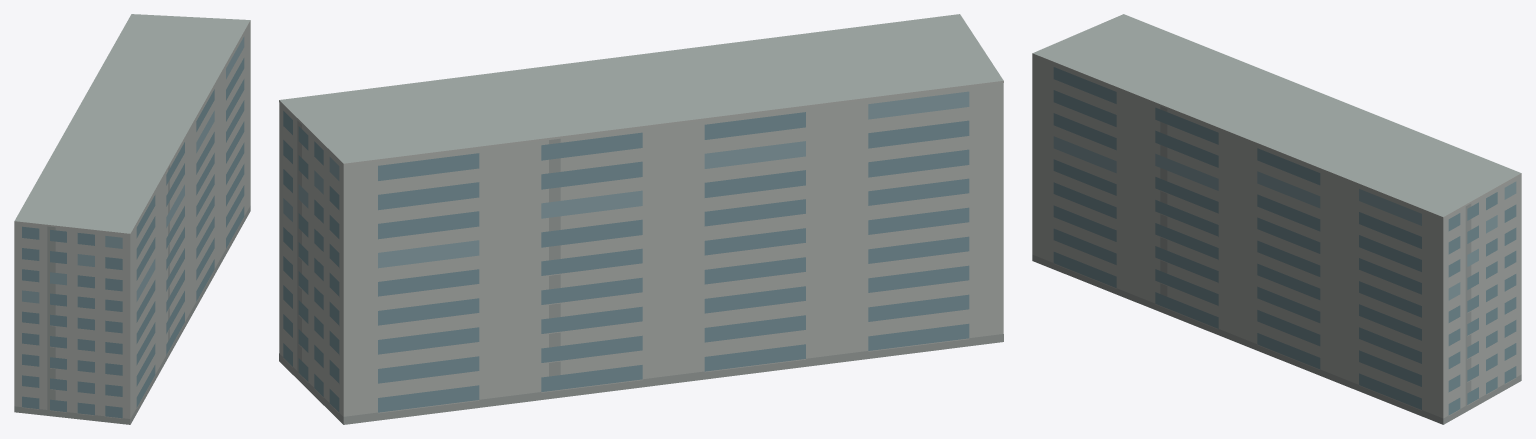
The model's file is residential-0168a30f-ed78-4db9-830f-77775a75e1eb.glb.
3 views of the same model, side by side, from view 1: azimuth 30°, elevation 25°; view 2: azimuth 150°, elevation 25°; view 3: azimuth 270°, elevation 25° (orthographic). The views are drawn at different scales.
Parts seen in each view (by area): view 1: residential-0168a30f-ed78-4db9-830f-77775a75e1eb.tmp; view 2: residential-0168a30f-ed78-4db9-830f-77775a75e1eb.tmp; view 3: residential-0168a30f-ed78-4db9-830f-77775a75e1eb.tmp.
Part boxes in pixels (x1,y1,x2,y2): residential-0168a30f-ed78-4db9-830f-77775a75e1eb.tmp: (14,14,250,424); residential-0168a30f-ed78-4db9-830f-77775a75e1eb.tmp: (279,14,1003,424); residential-0168a30f-ed78-4db9-830f-77775a75e1eb.tmp: (1032,14,1521,424).
Size of the model in its own units: 60.86 by 29 by 61.89.
